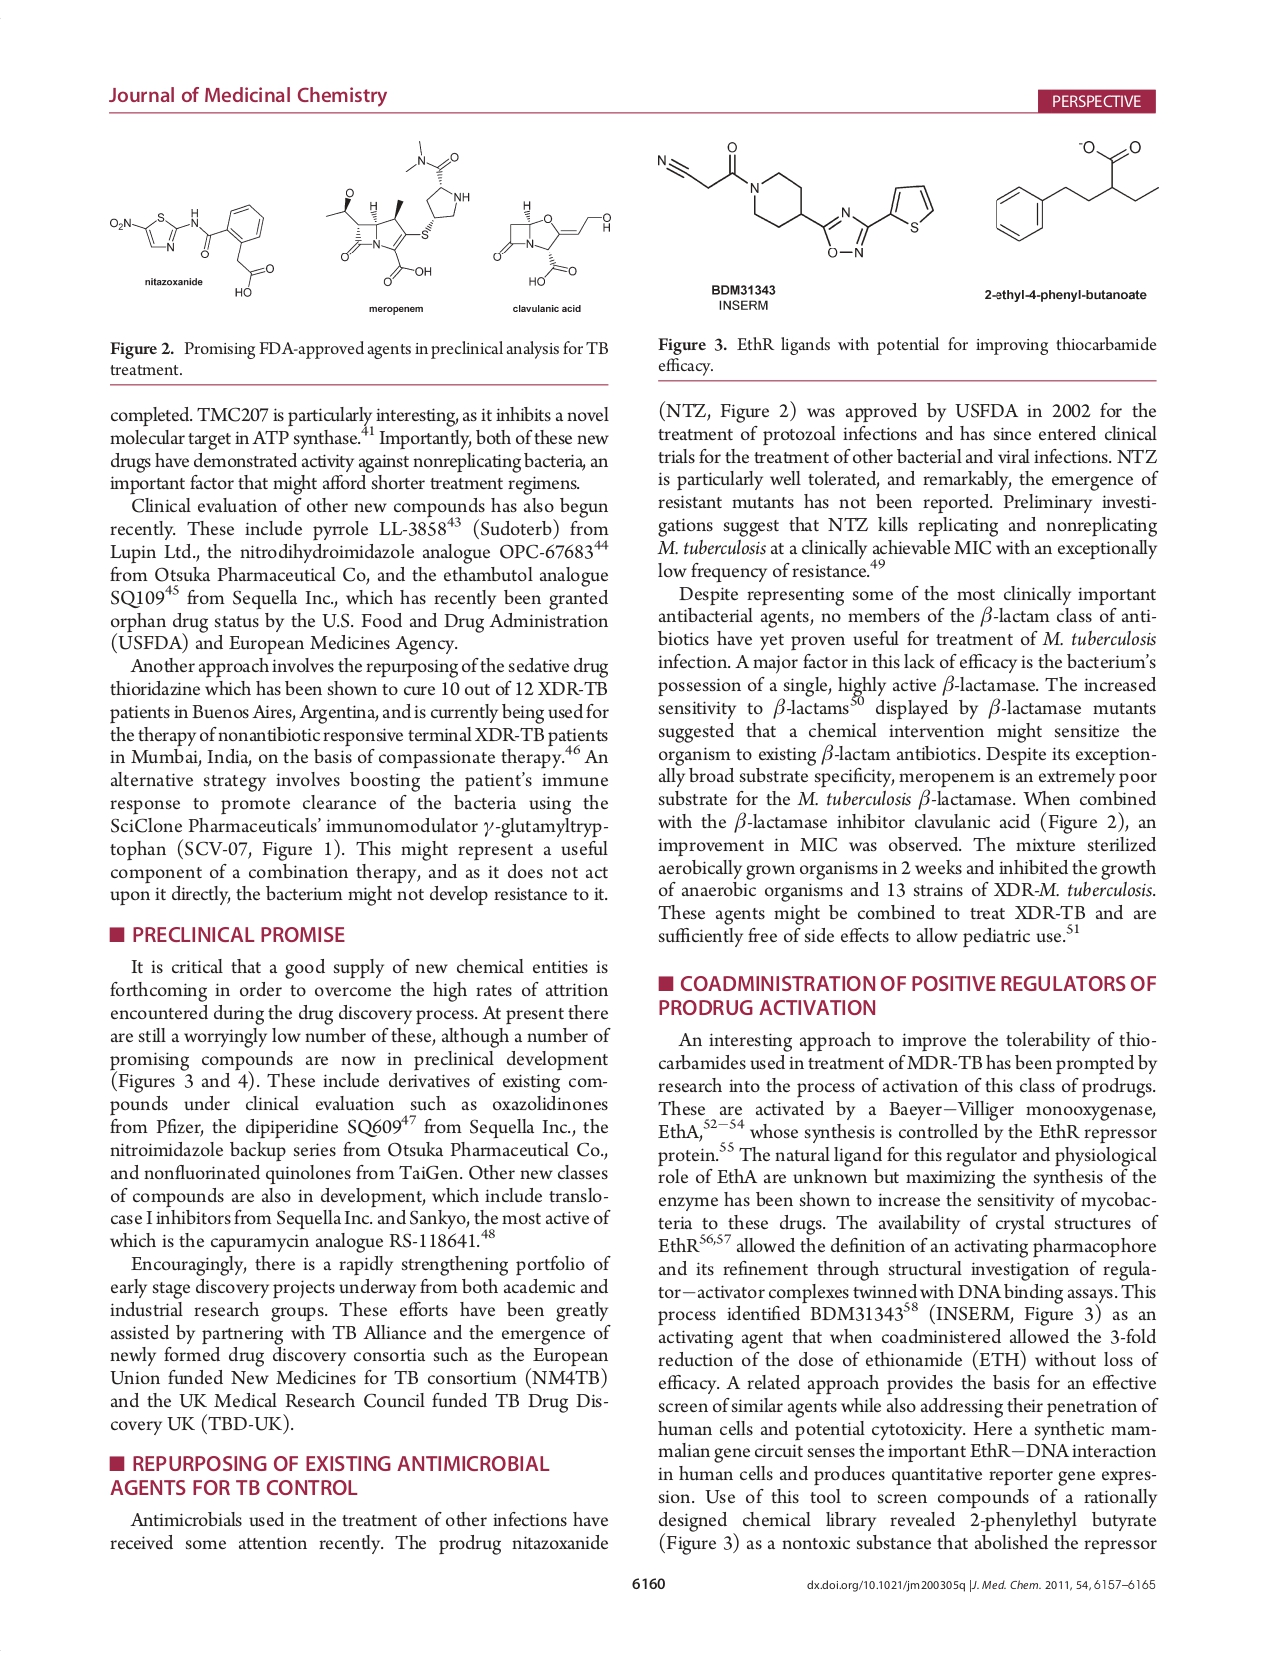exist_molecular: (654, 140, 936, 261), (320, 140, 473, 289), (989, 137, 1160, 245), (108, 203, 275, 299), (489, 197, 614, 290)
